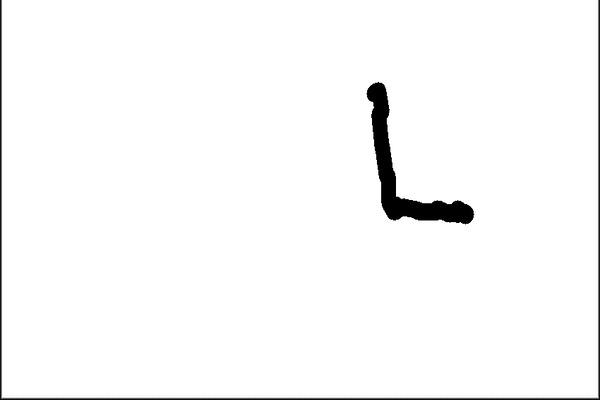L: (359, 74, 483, 234)
